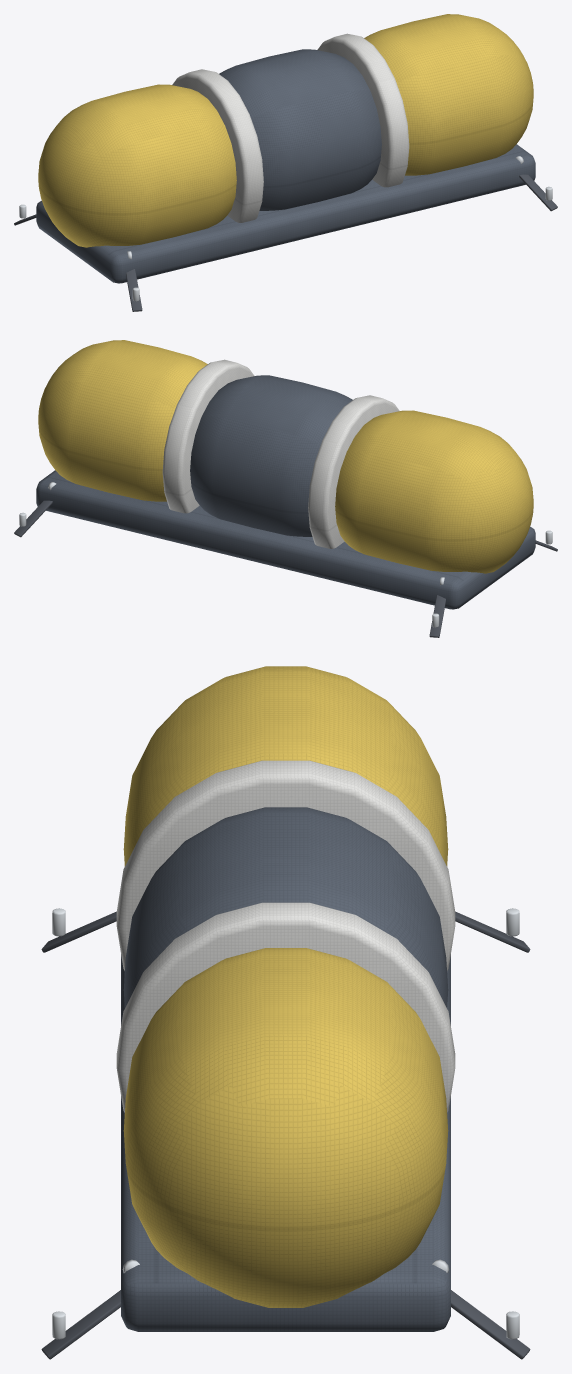
The model's file is bunker_snake_gold.glb.
3 renders of one model, top to bottom at view 1: azimuth 30°, elevation 25°; view 2: azimuth 150°, elevation 25°; view 3: azimuth 270°, elevation 25°, orthographic. The views are drawn at different scales.
Parts seen in each view (by area): view 1: SnakeSeg_0, SnakeSeg_2, SnakeSeg_1, SnakeSkirt, SnakeBand_0.58, SnakeBand_-0.58, Strap_1, Strap_0; view 2: SnakeSeg_0, SnakeSeg_2, SnakeSeg_1, SnakeSkirt, SnakeBand_0.58, SnakeBand_-0.58, Strap_2, Strap_3; view 3: SnakeSeg_2, SnakeSeg_1, SnakeSeg_0, SnakeSkirt, SnakeBand_-0.58, SnakeBand_0.58, Strap_1, Strap_2.
Part boxes in pixels (x1=…): SnakeSeg_0: x1=38, y1=84, x2=236, y2=247; SnakeSeg_2: x1=364, y1=14, x2=533, y2=175; SnakeSeg_1: x1=219, y1=49, x2=381, y2=210; SnakeSkirt: x1=36, y1=144, x2=535, y2=283; SnakeBand_0.58: x1=317, y1=33, x2=409, y2=187; SnakeBand_-0.58: x1=172, y1=69, x2=263, y2=222; Strap_1: x1=519, y1=174, x2=557, y2=211; Strap_0: x1=126, y1=269, x2=142, y2=311; SnakeSeg_0: x1=335, y1=410, x2=533, y2=573; SnakeSeg_2: x1=38, y1=340, x2=207, y2=501; SnakeSeg_1: x1=190, y1=375, x2=352, y2=536; SnakeSkirt: x1=36, y1=470, x2=535, y2=609; SnakeBand_0.58: x1=162, y1=359, x2=254, y2=513; SnakeBand_-0.58: x1=308, y1=395, x2=399, y2=548; Strap_2: x1=14, y1=500, x2=52, y2=537; Strap_3: x1=429, y1=595, x2=445, y2=637; SnakeSeg_2: x1=123, y1=948, x2=448, y2=1307; SnakeSeg_1: x1=123, y1=807, x2=448, y2=1007; SnakeSeg_0: x1=123, y1=666, x2=448, y2=866; SnakeSkirt: x1=121, y1=954, x2=450, y2=1331; SnakeBand_-0.58: x1=116, y1=760, x2=455, y2=970; SnakeBand_0.58: x1=116, y1=902, x2=455, y2=1112; Strap_1: x1=41, y1=1290, x2=120, y2=1359; Strap_2: x1=451, y1=1290, x2=530, y2=1359.
Size of the model in its own units: 3.78 by 1.2 by 1.69.
5 materials, 3 textured.
